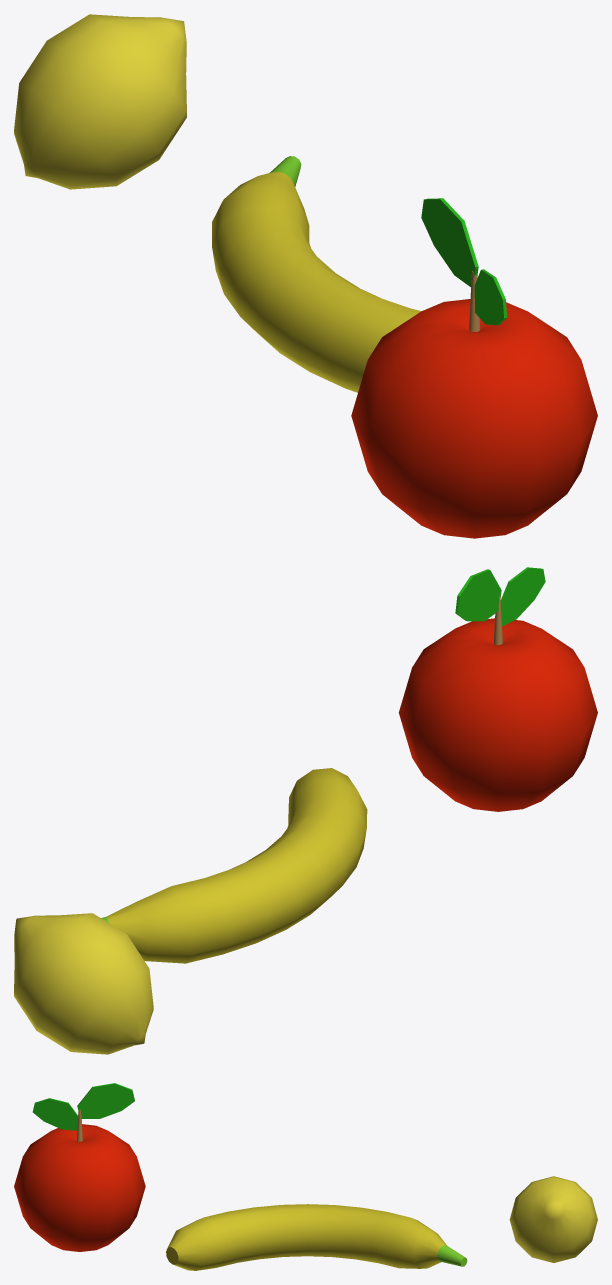
Rendered from Fruits.fbx.
3 views of the same model, one above another, from view 1: azimuth 30°, elevation 25°; view 2: azimuth 150°, elevation 25°; view 3: azimuth 270°, elevation 25° (orthographic). The views are drawn at different scales.
Parts seen in each view (by area): view 1: Яблуко, Лимон, Банан, Листочок_2, Листочок; view 2: Яблуко, Банан, Лимон, Листочок_2, Листочок; view 3: Банан, Яблуко, Лимон, Листочок_2, Листочок.
Part boxes in pixels (x1,y1,x2,y2): Яблуко: (351, 271, 597, 538); Лимон: (14, 14, 186, 189); Банан: (212, 156, 421, 392); Листочок_2: (421, 198, 478, 286); Листочок: (474, 269, 507, 325); Яблуко: (398, 596, 597, 811); Банан: (101, 768, 367, 963); Лимон: (14, 913, 153, 1054); Листочок_2: (455, 569, 501, 621); Листочок: (500, 567, 545, 626); Банан: (166, 1204, 467, 1270); Яблуко: (14, 1109, 145, 1251); Лимон: (509, 1176, 597, 1262); Листочок_2: (77, 1083, 134, 1118); Листочок: (32, 1098, 78, 1130).
Size of the model in its own units: 13.58 by 13.36 by 44.32.
